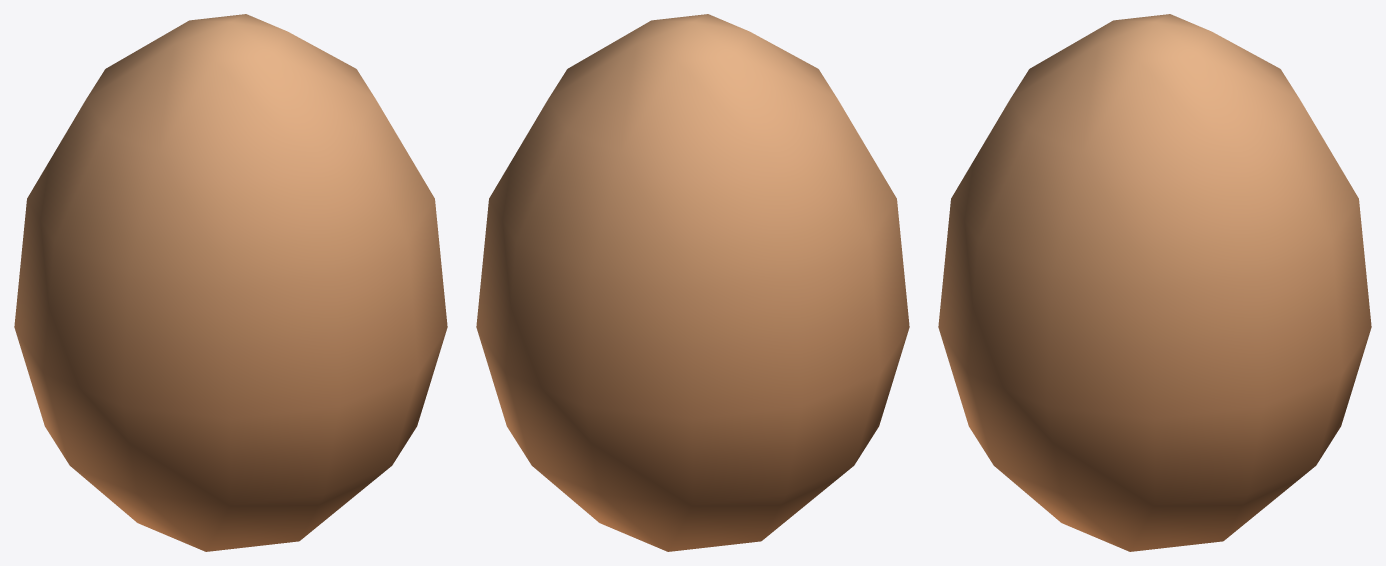
The model's file is egg_chicken.fbx.
The picture shows the model from 3 angles, left to right: view 1: azimuth 30°, elevation 25°; view 2: azimuth 150°, elevation 25°; view 3: azimuth 270°, elevation 25°; orthographic projection.
Parts seen in each view (by area): view 1: m_egg_chicken; view 2: m_egg_chicken; view 3: m_egg_chicken.
Boxes of the visible parts, left/top/right/bottom form: m_egg_chicken: left=14, top=14, right=447, bottom=551; m_egg_chicken: left=476, top=14, right=909, bottom=551; m_egg_chicken: left=938, top=14, right=1371, bottom=551.
Size of the model in its own units: 0.0754 by 0.0754 by 0.0986.
